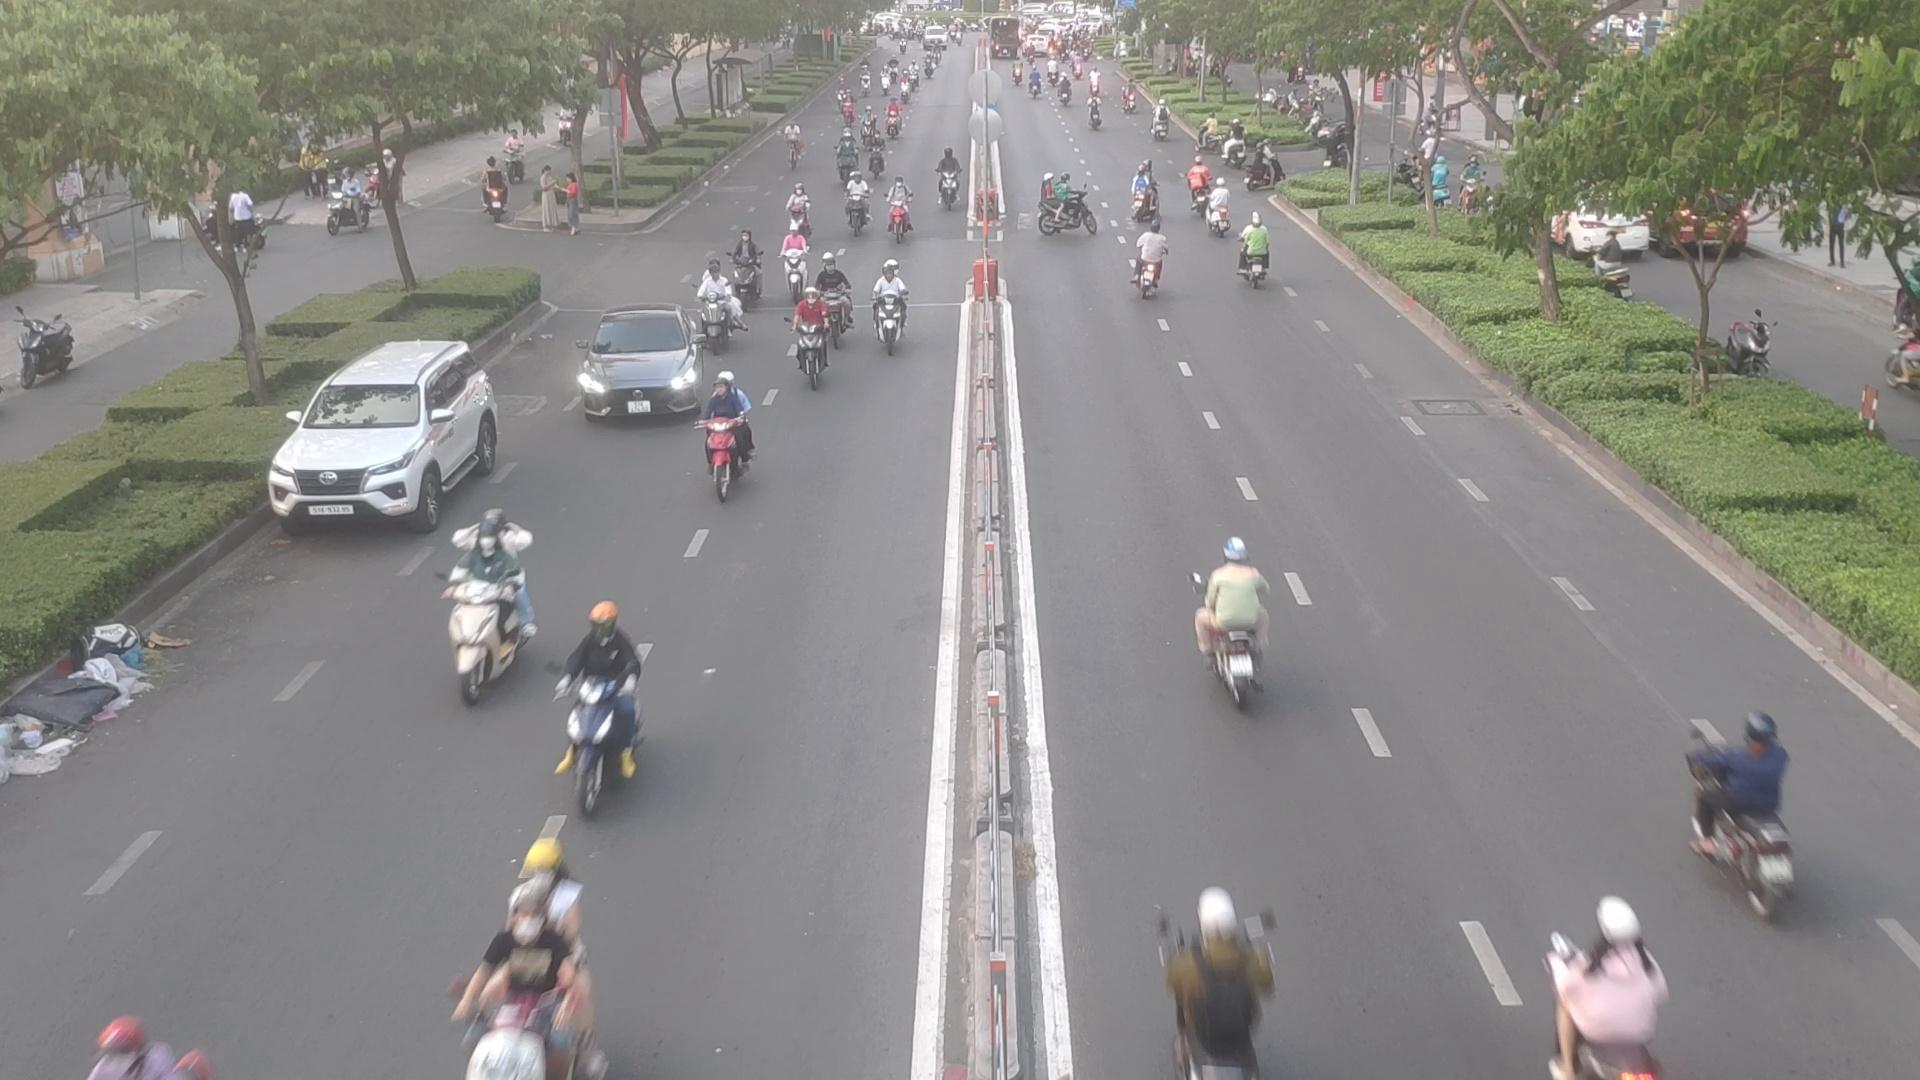car: (272, 343, 516, 531), (571, 307, 709, 421)
motorbike: (446, 916, 608, 1080), (1143, 893, 1280, 1080), (1555, 893, 1687, 1076), (1683, 712, 1797, 916), (558, 605, 662, 802), (433, 537, 529, 698), (1187, 549, 1282, 699), (433, 512, 529, 617), (65, 1015, 222, 1080), (698, 375, 764, 495), (789, 287, 843, 392), (1033, 171, 1101, 243), (864, 262, 913, 357), (695, 270, 749, 348), (808, 252, 856, 324), (1127, 229, 1174, 297), (1236, 219, 1280, 286), (727, 231, 767, 303), (1129, 161, 1164, 220), (881, 182, 914, 244), (782, 229, 816, 286), (934, 152, 967, 206), (843, 174, 872, 233), (786, 183, 820, 233), (1183, 154, 1211, 214), (1208, 177, 1230, 235)
